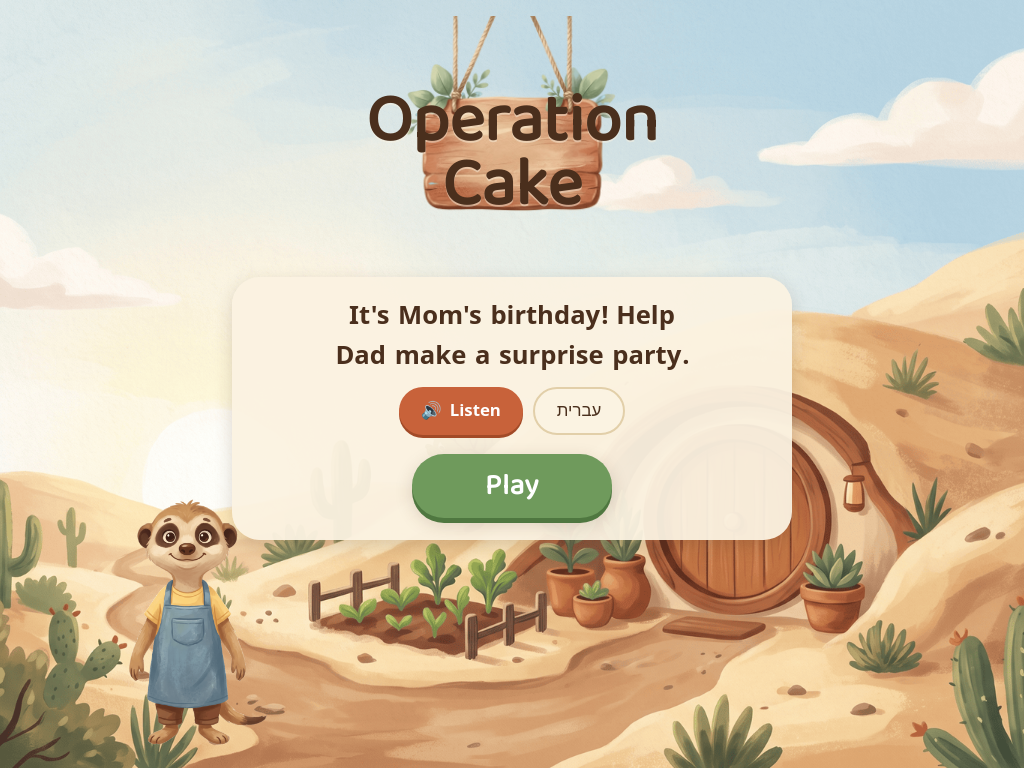
Stage 1 › finishes the stage and marks it done on the map
Click the button "Play": x=512, y=486 [412,454,612,518]
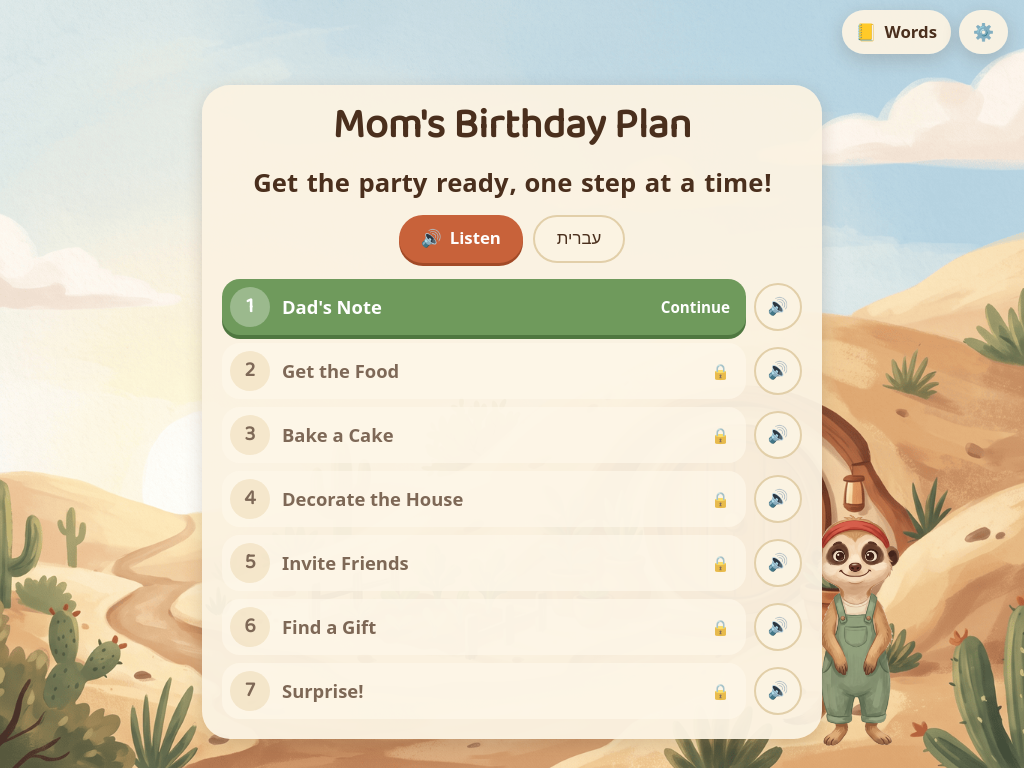
Click the button with class "stage-item__main" showing "1 Dad's Note Continue": x=250, y=307 [222,279,746,335]
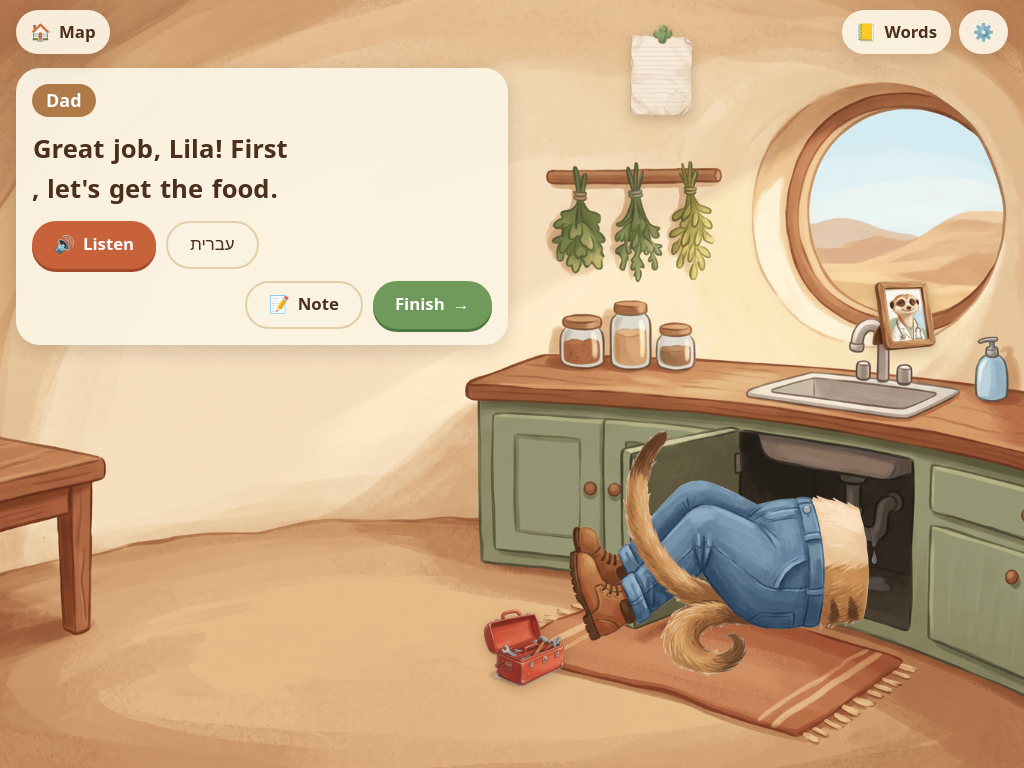
Click the button "Finish →": x=432, y=305 [373,281,492,329]
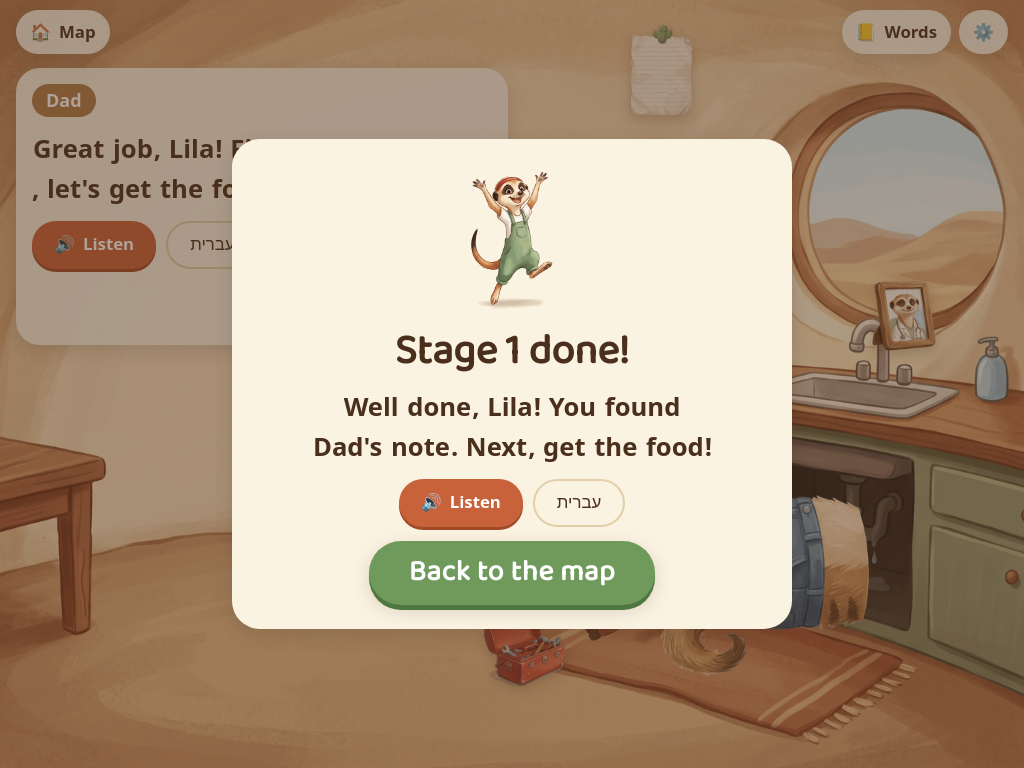
Check: the dialog with class "stage-done" shows "Stage 1 done!", box [395,318,629,385]
Click the button "Back to the map": x=512, y=573 [369,541,655,605]
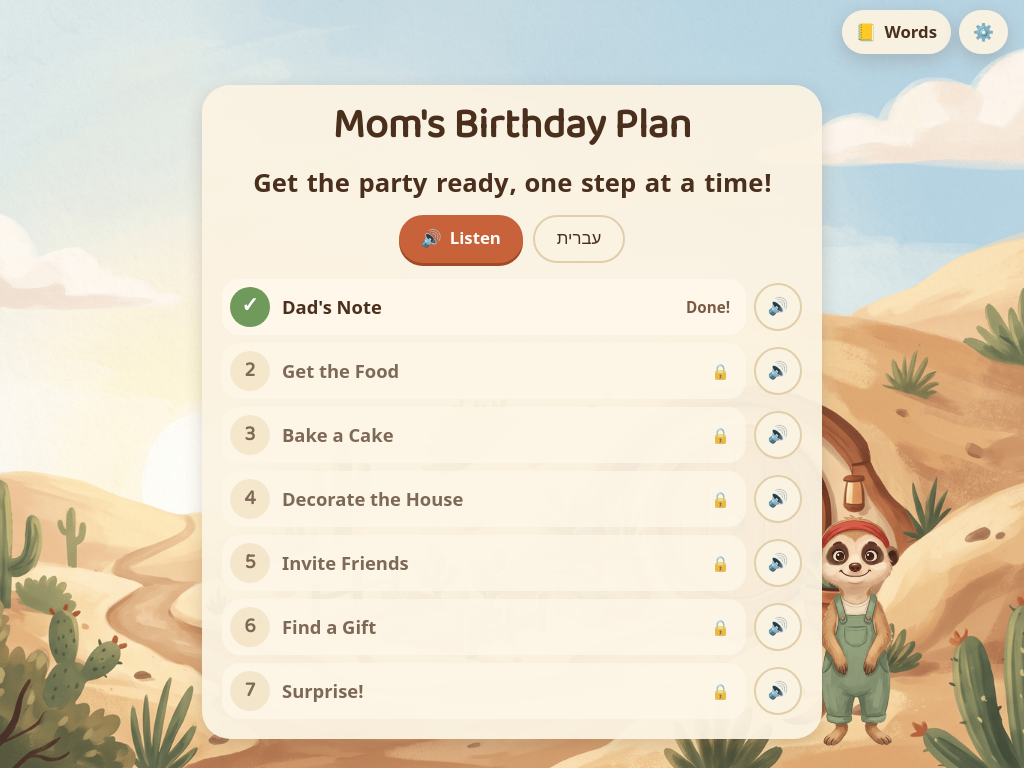
Check: the list item with class "stage-item--done" shows "Dad's Note", box [222,279,746,335]
